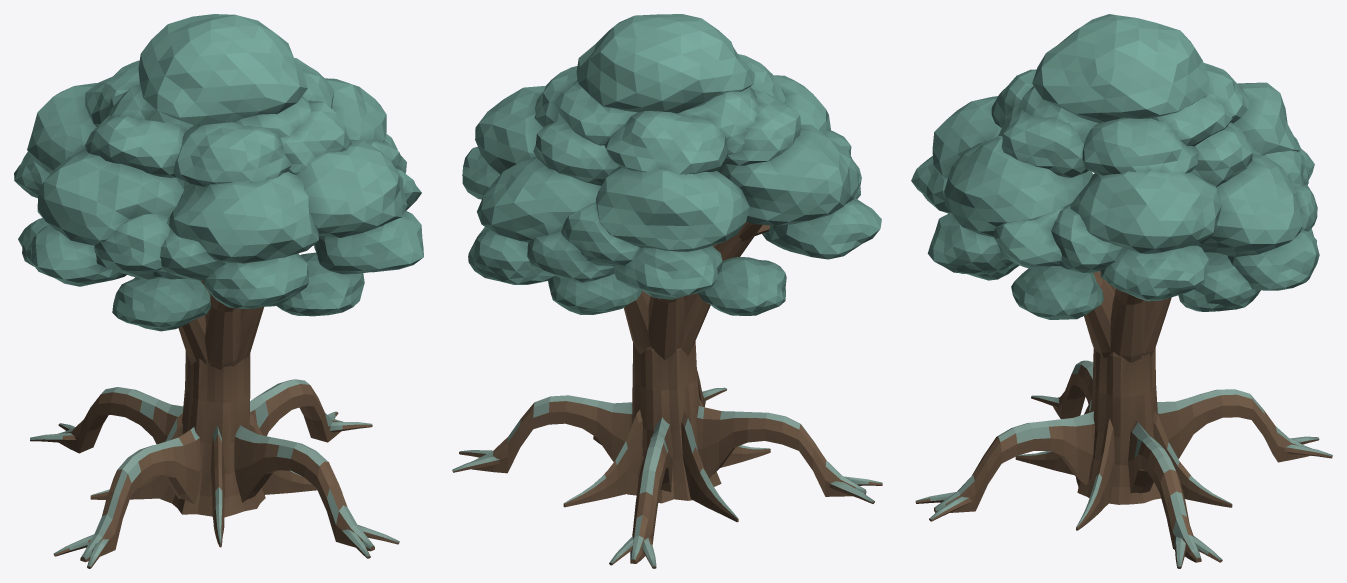
Rendered from tree_ancient.glb.
3 renders of one model, left to right at view 1: azimuth 30°, elevation 25°; view 2: azimuth 150°, elevation 25°; view 3: azimuth 270°, elevation 25°, orthographic. The views are drawn at different scales.
Bounding box in the file's own units: 35.28 × 40.78 × 33.89.
